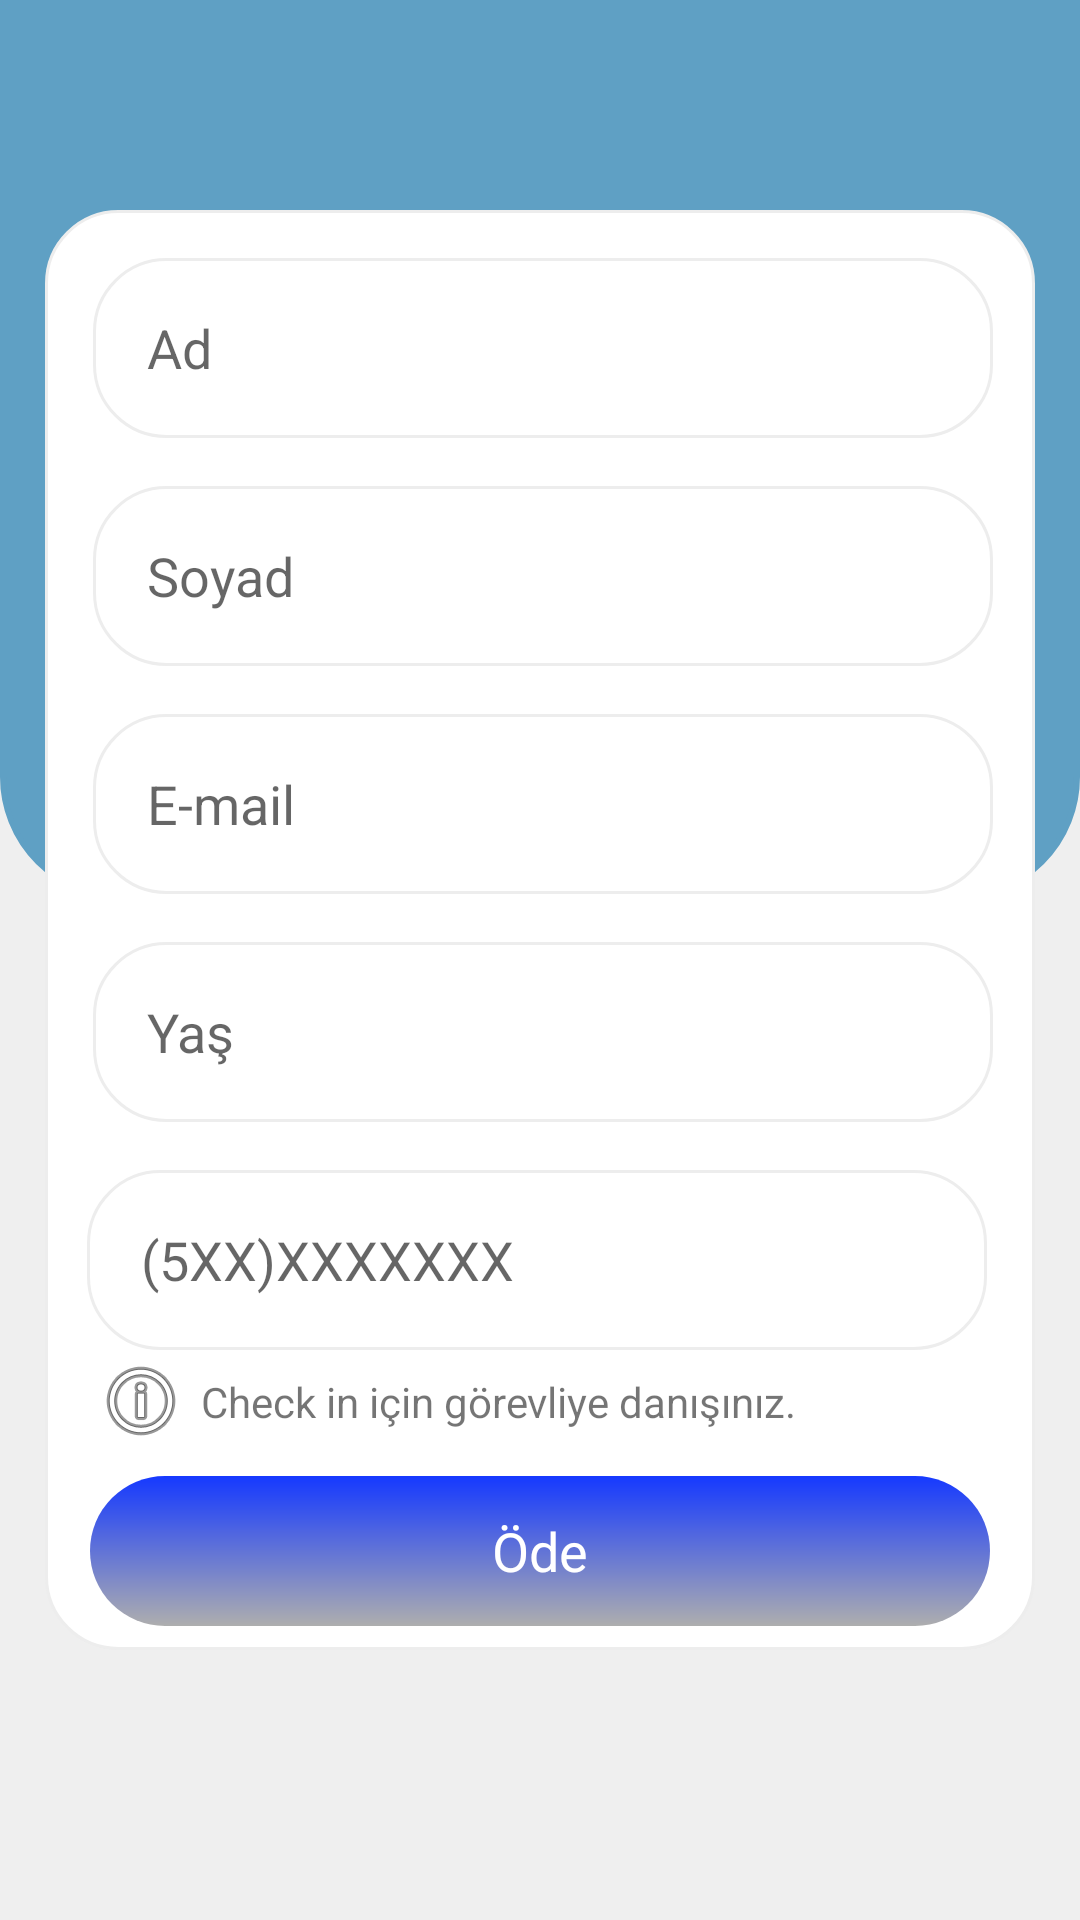

Screen size 1080 x 1920. Icon name, then its box in pixels as (x1, y1, x2, y2):
info details: (106, 1366, 176, 1436)
